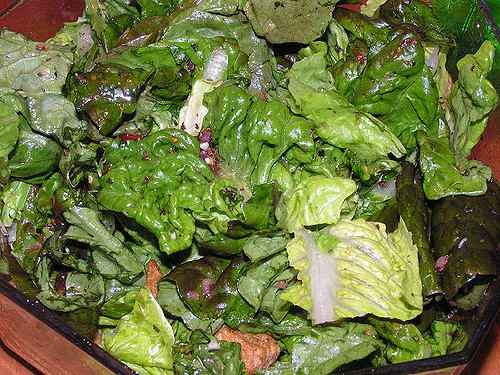chopped lettuce: (6, 23, 477, 346)
